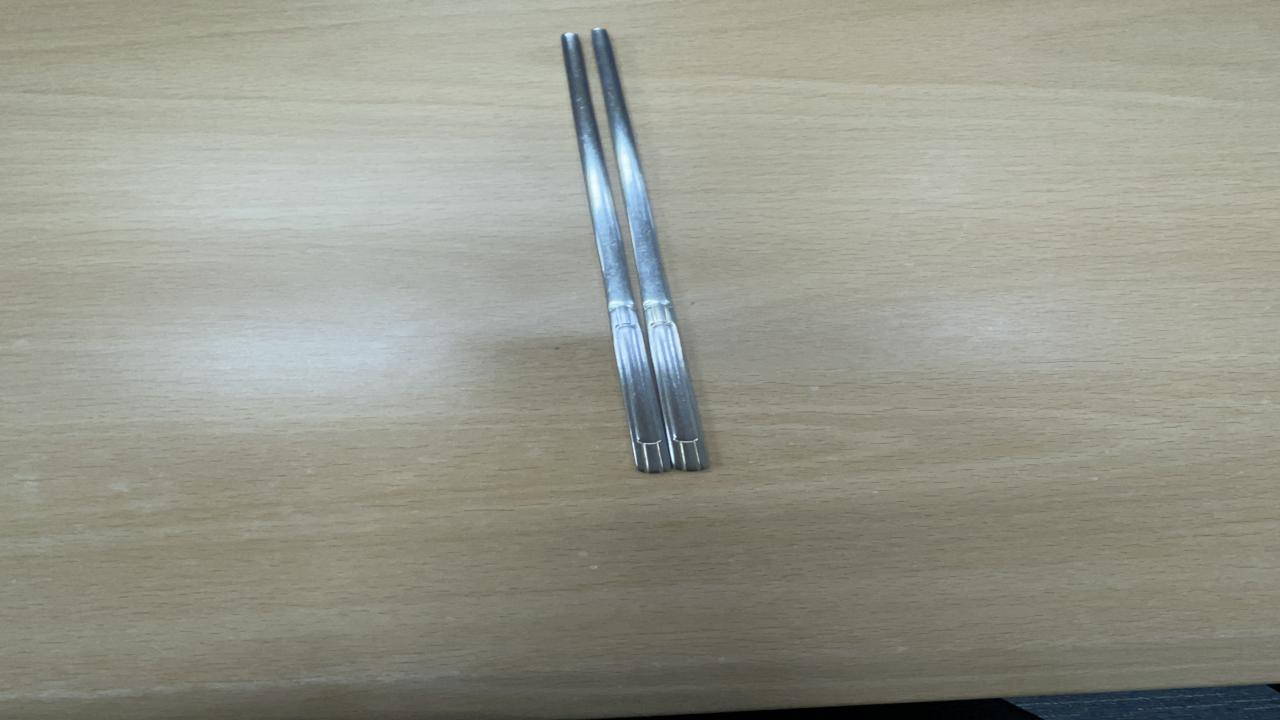chopstick: (544, 25, 710, 478)
